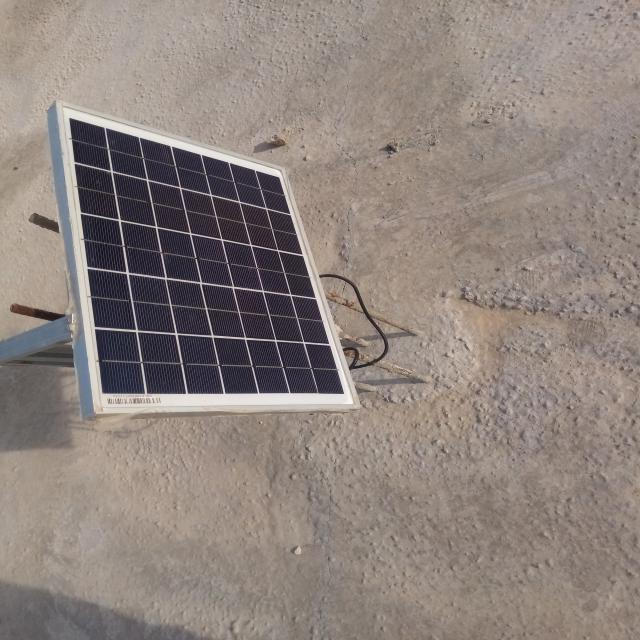no faulty: (62, 103, 361, 412)
